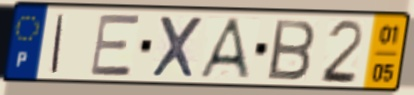2: (319, 18, 366, 86)
A: (196, 16, 253, 81)
B: (266, 17, 318, 82)
E: (88, 13, 142, 78)
I: (48, 12, 67, 75)
X: (149, 13, 205, 80)
